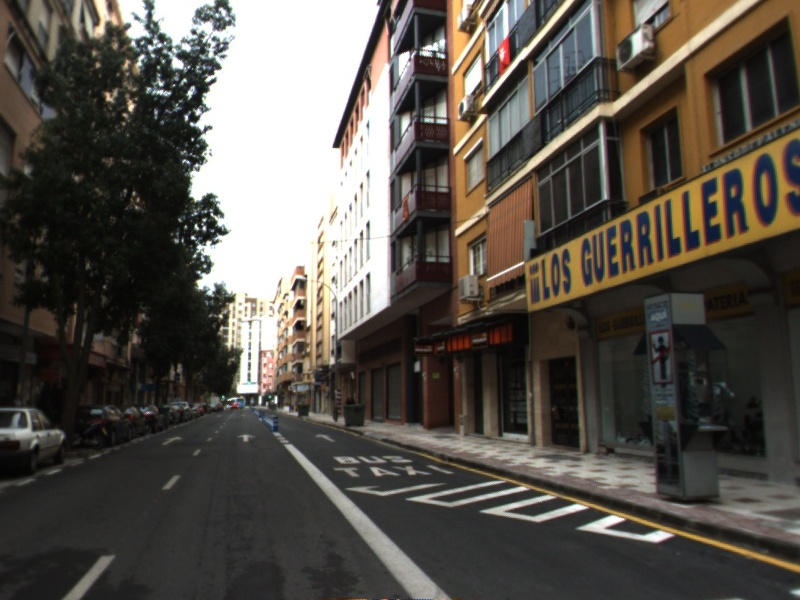STRAIGHT: (159, 434, 184, 447), (313, 432, 338, 444), (234, 432, 258, 444)
